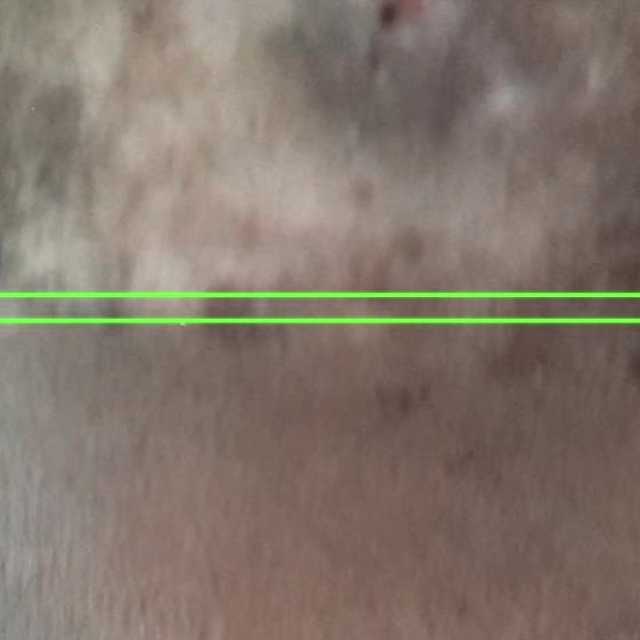Contact Dermatitis: (0, 294, 639, 639), (0, 0, 639, 320)
